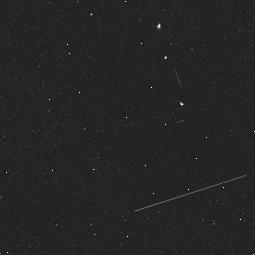proba_3_csc: (98, 50, 255, 215)
